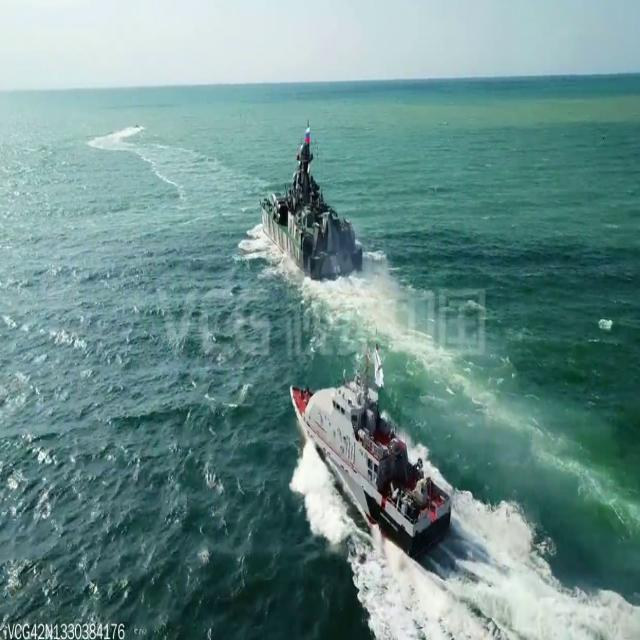houseboat: (288, 372, 452, 546), (258, 131, 364, 285)
